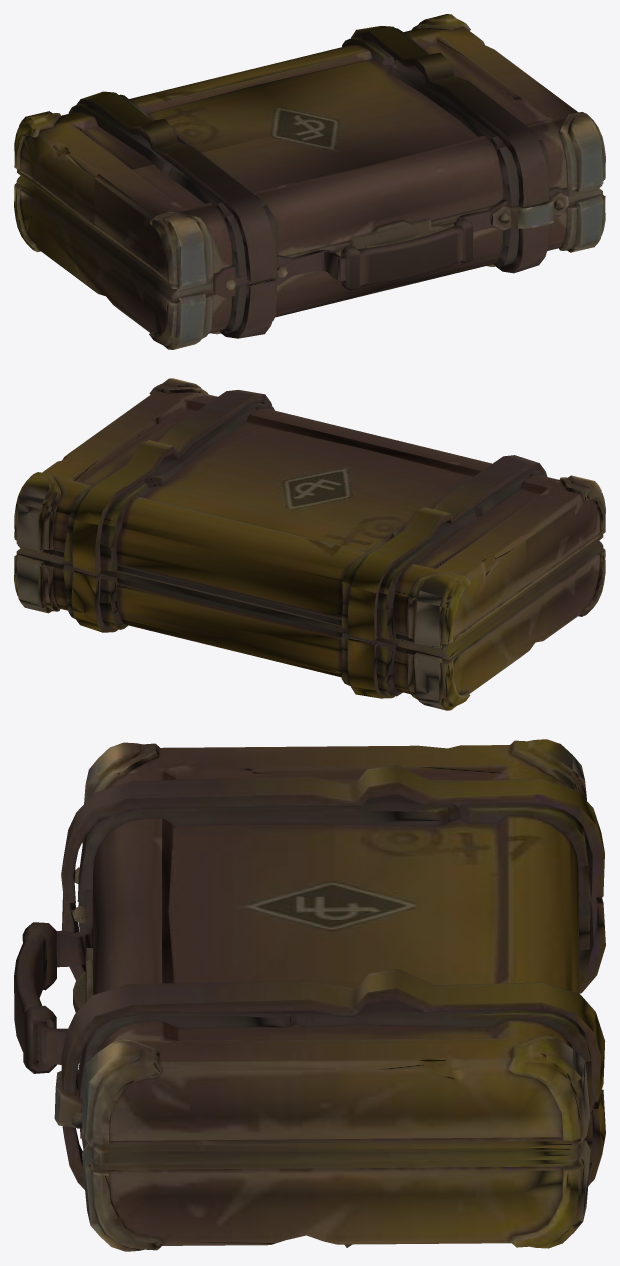
Rendered from pasta-ulBOTx9L.glb.
3 views of the same model, one above another, from view 1: azimuth 30°, elevation 25°; view 2: azimuth 150°, elevation 25°; view 3: azimuth 270°, elevation 25° (orthographic). The views are drawn at different scales.
Visible parts, largest first — view 1: lid, body; view 2: lid, body; view 3: lid, body.
Part boxes in pixels (bbox=[...]): lid: bbox=[14, 14, 605, 298]; body: bbox=[14, 175, 605, 349]; lid: bbox=[14, 378, 605, 651]; body: bbox=[14, 540, 605, 710]; lid: bbox=[14, 739, 605, 1154]; body: bbox=[62, 867, 605, 1251].
Bounding box in the file's own units: 0.7412 × 0.2848 × 0.5702.
Materials: 1 (1 with a texture image).
